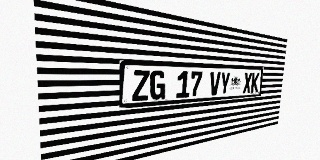1: (176, 71, 190, 98)
7: (189, 71, 202, 97)
G: (150, 70, 166, 100)
K: (251, 73, 260, 93)
V: (209, 72, 221, 96)
X: (243, 72, 252, 93)
Y: (219, 72, 230, 95)
Z: (132, 70, 150, 101)
